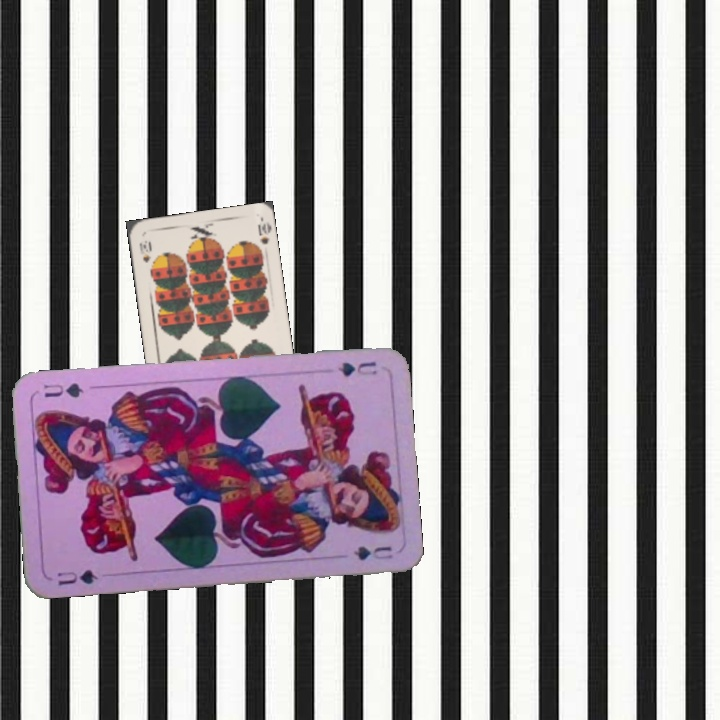GU: (53, 565, 101, 588), (333, 358, 380, 380)
S10: (135, 236, 154, 266)
